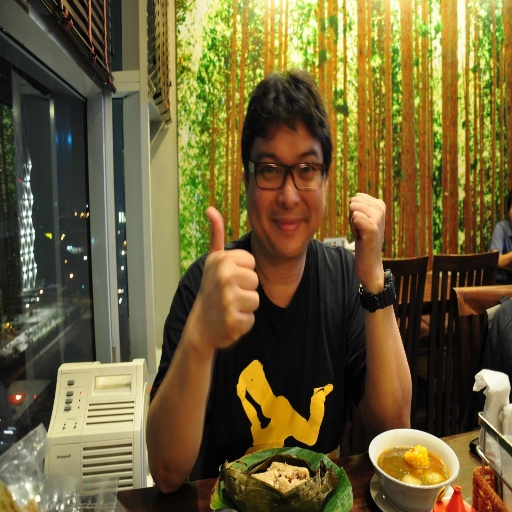hand: (194, 202, 260, 351), (350, 190, 396, 293), (235, 382, 247, 398)
